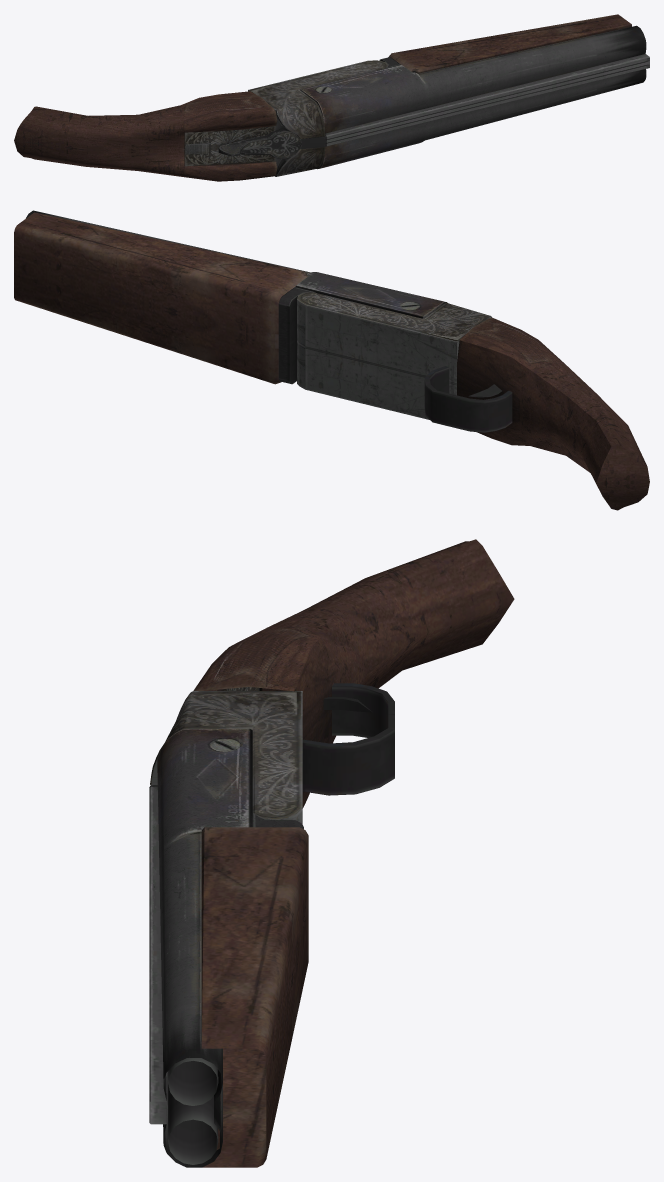
Rendered from viewmodel_sawed_off_double_barrel_LOD0.obj.
The picture shows the model from 3 angles, top to bottom: view 1: azimuth 30°, elevation 25°; view 2: azimuth 150°, elevation 25°; view 3: azimuth 270°, elevation 25°; orthographic projection. The views are drawn at different scales.
Parts seen in each view (by area): view 1: mtl_weapon_sawed_off_double_barrel; view 2: mtl_weapon_sawed_off_double_barrel; view 3: mtl_weapon_sawed_off_double_barrel.
Part boxes in pixels (x1,y1,x2,y2): mtl_weapon_sawed_off_double_barrel: (14, 14, 649, 181); mtl_weapon_sawed_off_double_barrel: (14, 210, 649, 510); mtl_weapon_sawed_off_double_barrel: (149, 539, 514, 1167).
Size of the model in its own units: 57.6 by 7.36 by 16.35.
